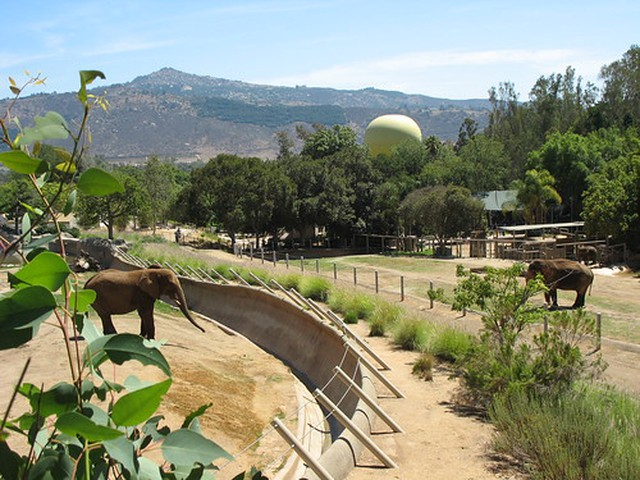Elephant: (83, 262, 212, 337), (524, 259, 599, 310), (578, 245, 606, 259)
